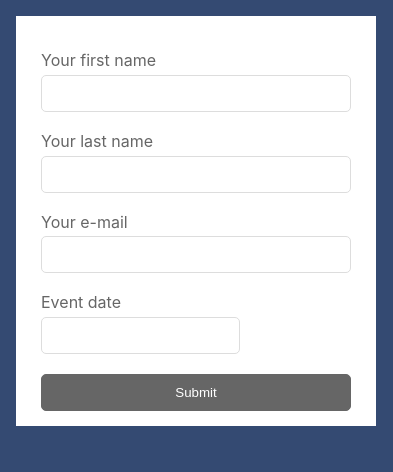
Event form end 2 end tests › Email entered incorrectly - button disabled
In the field with id "email": (196,255) [41,236,351,273], type "fake@email"
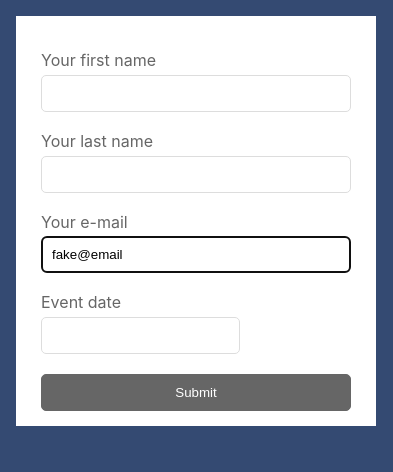
Focus the field with id "lastName": (196,175) [41,156,351,193]
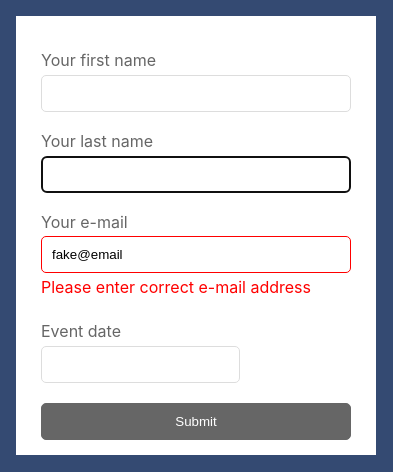
Expected: the button "Submit" is disabled, [41,403,351,440]
Result: the text "Please enter correct e-mail addres" is shown at [41,277,311,297]
